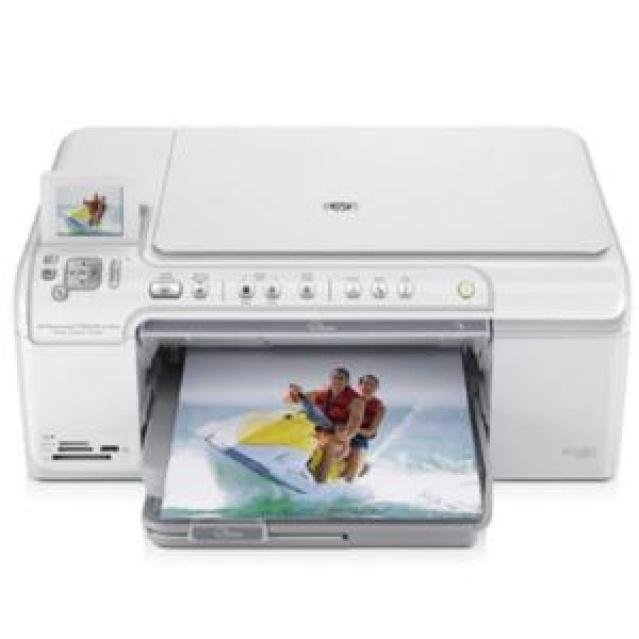Printer: (12, 123, 630, 549)
